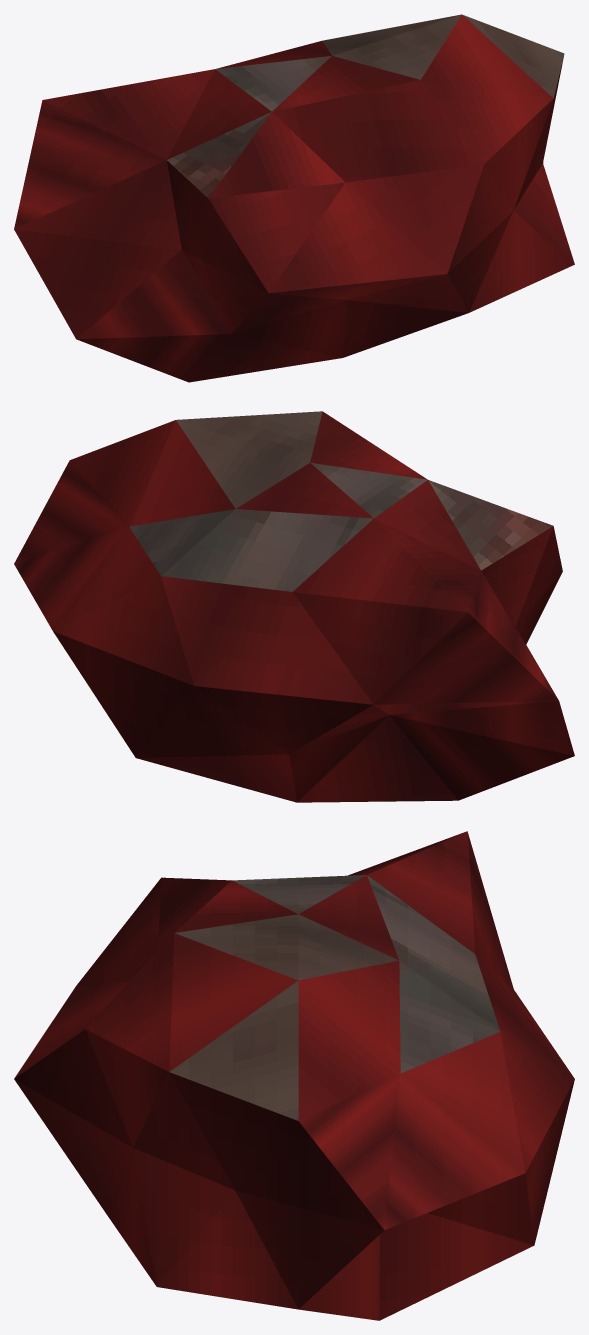
The model's file is Gib1.glb.
3 renders of one model, top to bottom at view 1: azimuth 30°, elevation 25°; view 2: azimuth 150°, elevation 25°; view 3: azimuth 270°, elevation 25°, orthographic. The views are drawn at different scales.
Parts seen in each view (by area): view 1: Gib1; view 2: Gib1; view 3: Gib1.
Part boxes in pixels (x1,y1,x2,y2): Gib1: (14, 14, 574, 382); Gib1: (14, 411, 574, 802); Gib1: (14, 831, 574, 1320).
Size of the model in its own units: 0.1802 by 0.0978 by 0.1338.
Materials: 1 (1 with a texture image).
